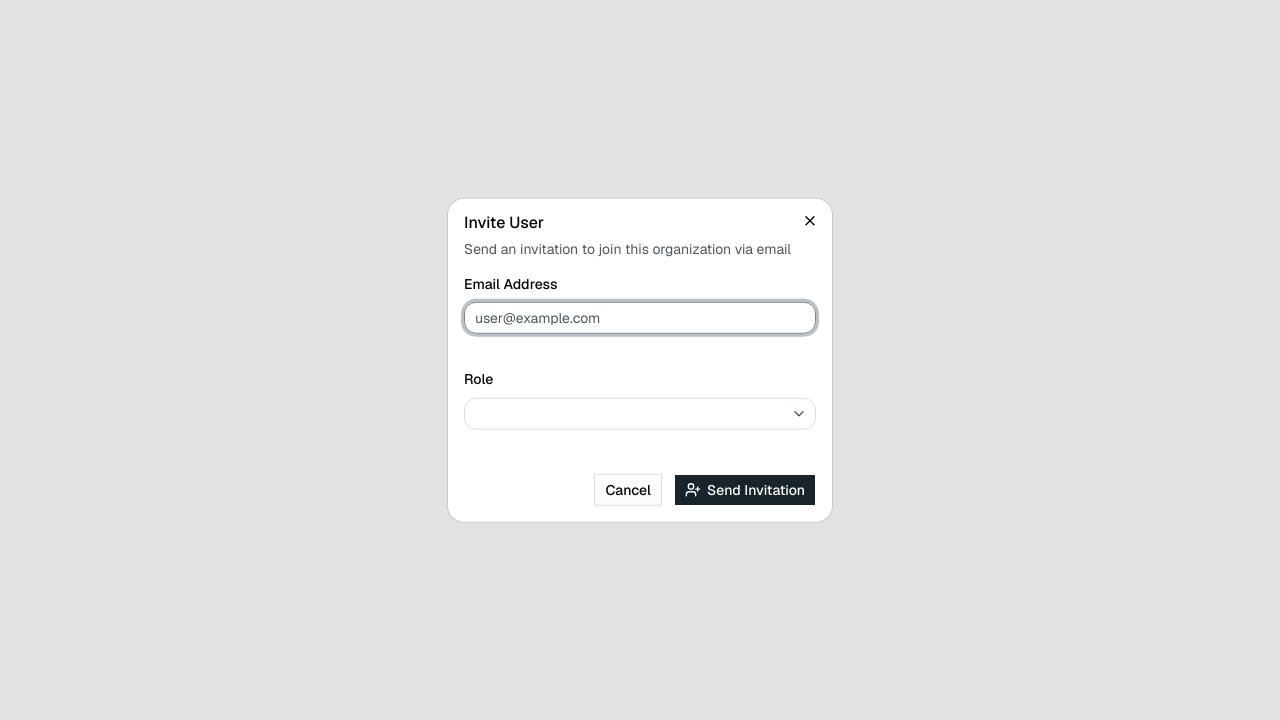
Test case: InviteUserDialog › validates email input
Click the button "Send Invitation": click(745, 489) [674,473,816,505]
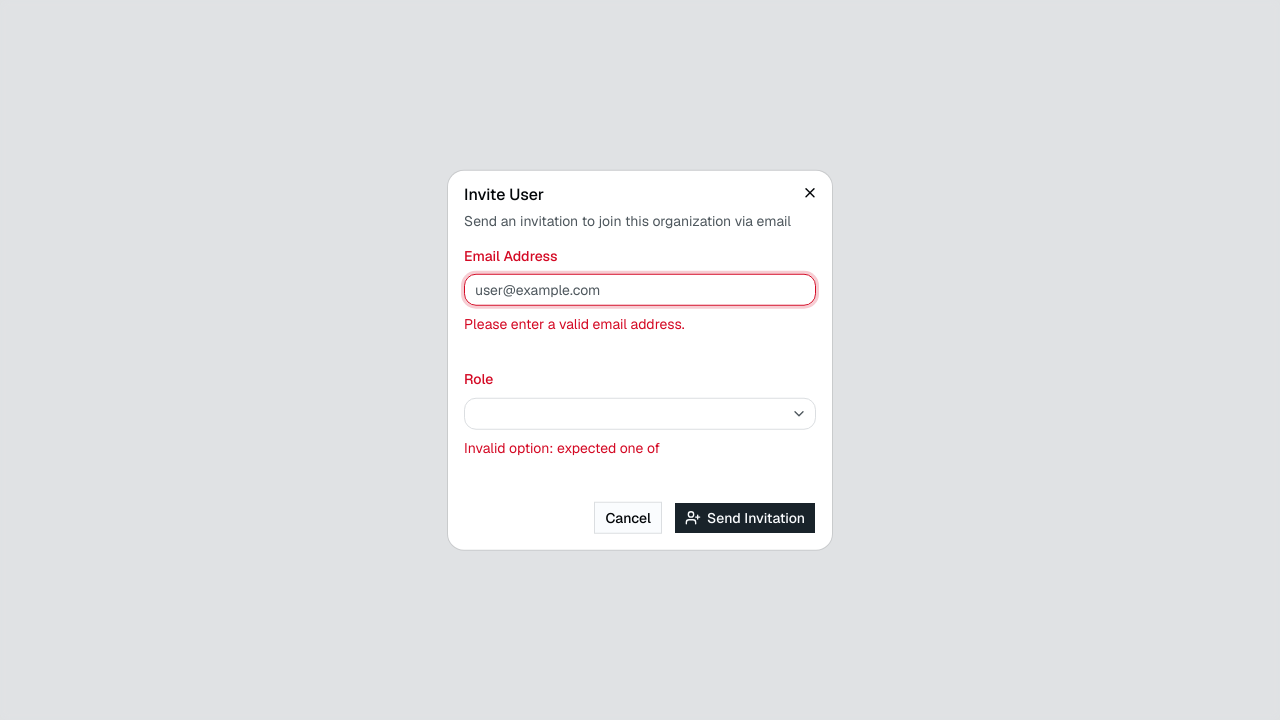
Expected: the text "Please enter a valid email address." is shown, [464,315,684,333]
